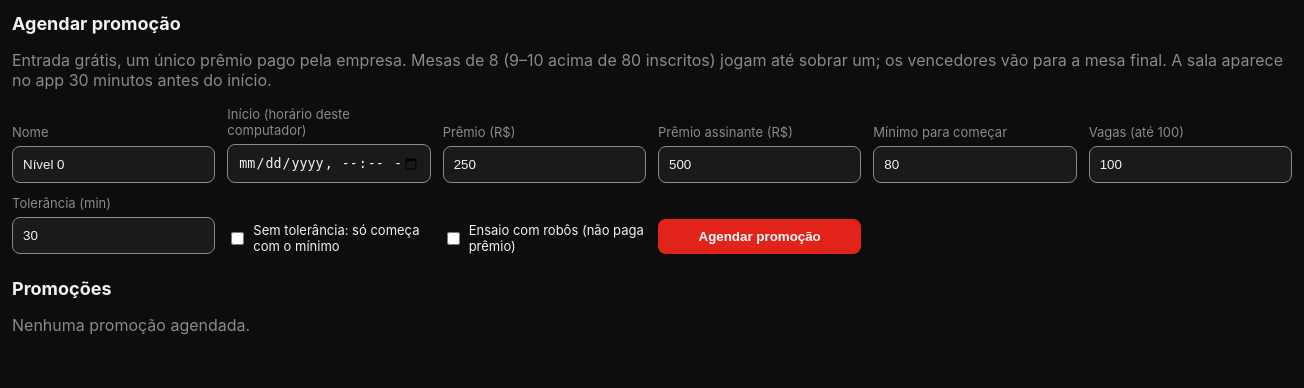
Test case: Promotions tab › schedules one after confirmation and sends what the operator typed
Expected: the text "Nenhuma promoção agendada." is shown, left=12, top=315, right=250, bottom=335
Type "2099-10-07T20:00" into the field labelled "Início" at (329, 164), box left=227, top=144, right=431, bottom=183
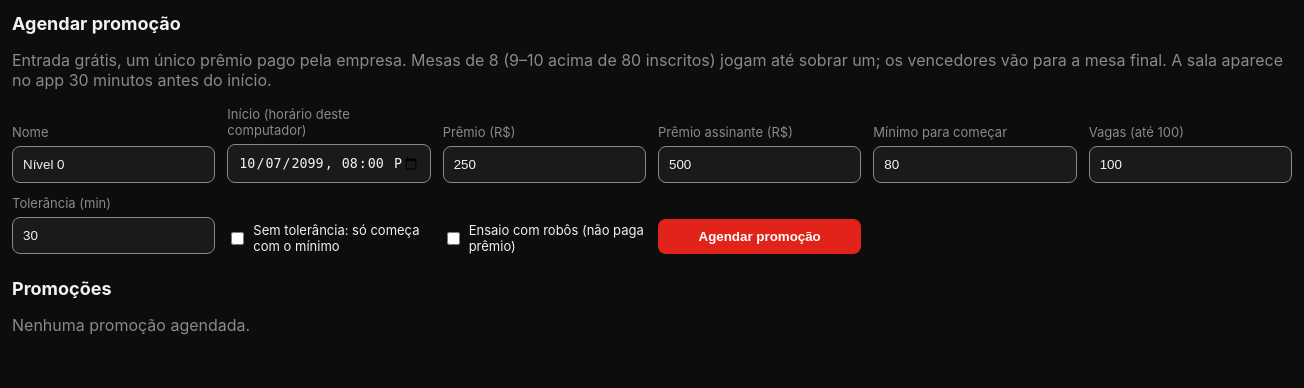
Click the checkbox labelled "Sem tolerância" at (238, 238), box left=231, top=232, right=244, bottom=245
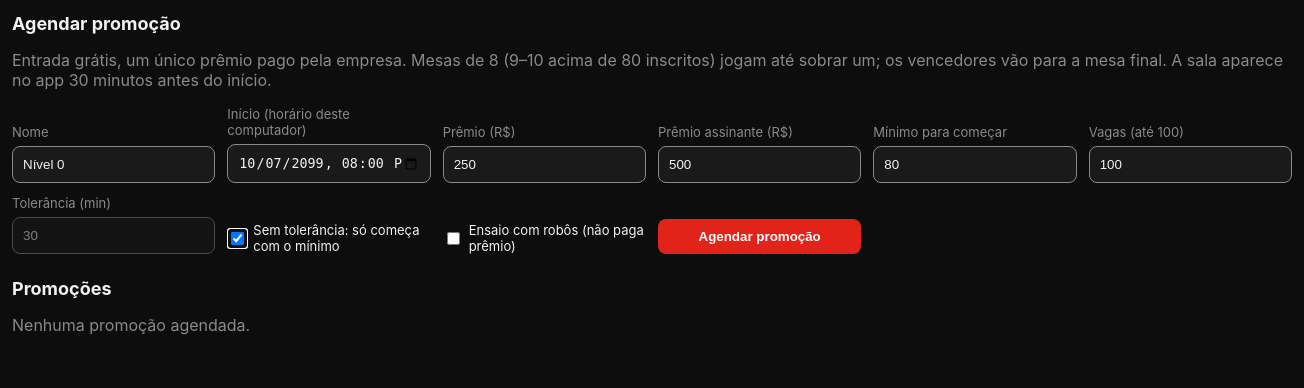
Click the button "Agendar promoção" at (760, 237), box left=658, top=219, right=861, bottom=254
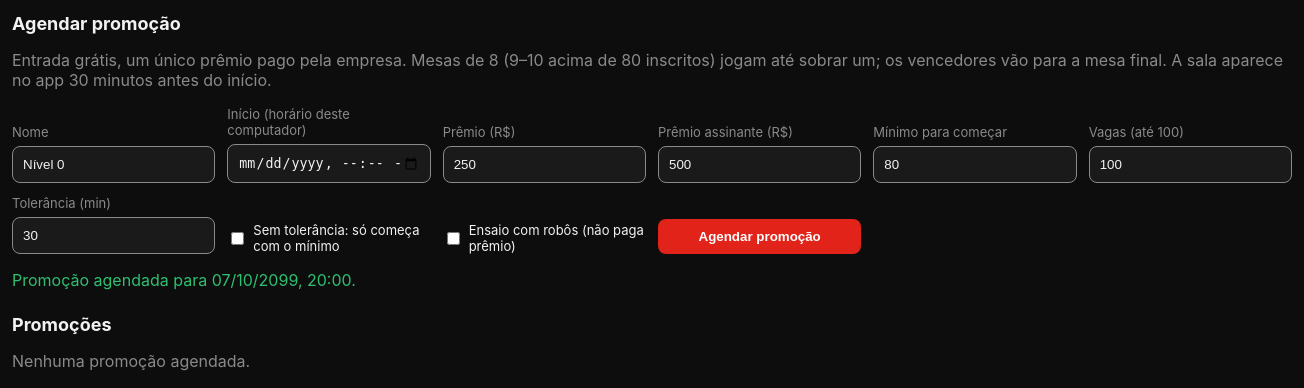
Now the text "Promoção agendada para 07/10/2099, 20:00." is shown, box left=12, top=270, right=356, bottom=290
